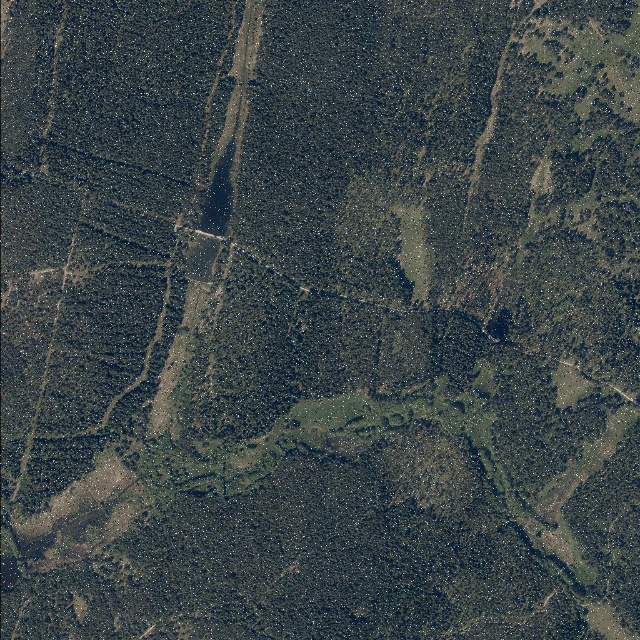vegetation: (0, 0, 246, 521), (0, 423, 590, 640), (174, 243, 613, 492), (227, 0, 519, 309), (457, 46, 578, 271), (561, 423, 640, 640), (536, 151, 592, 213), (536, 0, 638, 33)
